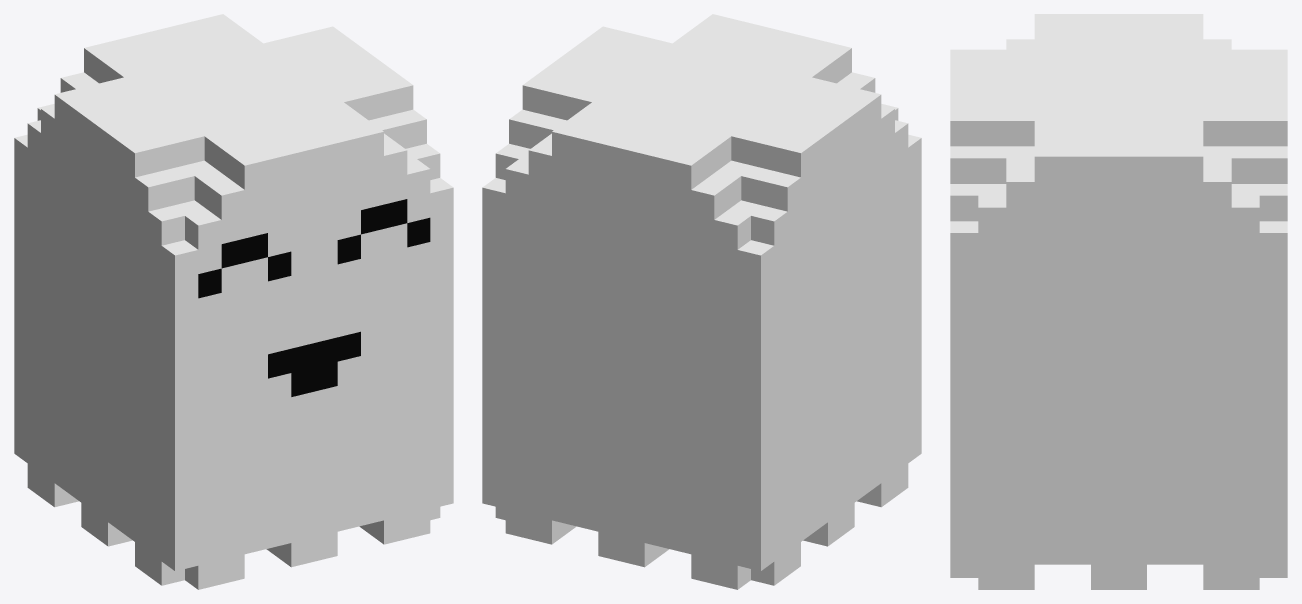
The model's file is ghost.glb.
3 views of the same model, side by side, from view 1: azimuth 30°, elevation 25°; view 2: azimuth 150°, elevation 25°; view 3: azimuth 270°, elevation 25° (orthographic). The views are drawn at different scales.
Parts seen in each view (by area): view 1: Ghost; view 2: Ghost; view 3: Ghost.
Boxes of the visible parts, x1,y1,x2,y2 form: Ghost: (14,14,453,589); Ghost: (482,14,921,589); Ghost: (950,14,1287,589).
Size of the model in its own units: 1.2 by 1.7 by 1.2.
Materials: 1 (1 with a texture image).
